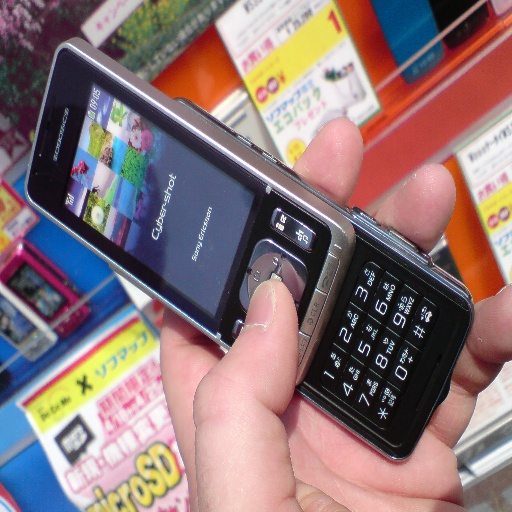hand: (161, 124, 511, 511)
